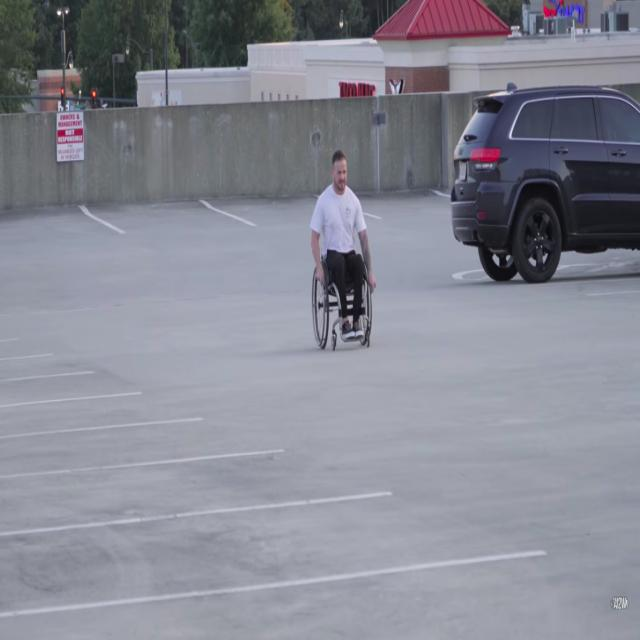wheelchairs: (309, 246, 374, 352)
